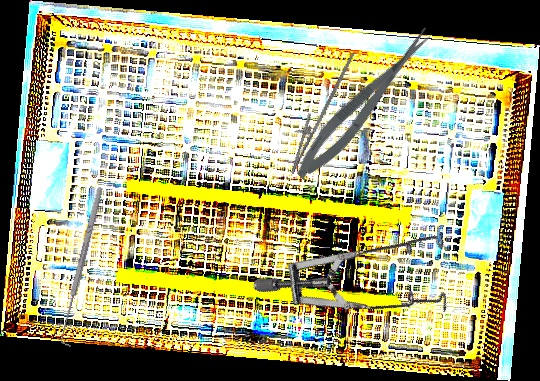Hook Surgical: (55, 185, 111, 348)
Micro Scissor: (287, 22, 443, 187)
Needle Holder: (280, 43, 356, 180)
Speculum: (250, 165, 477, 373)
